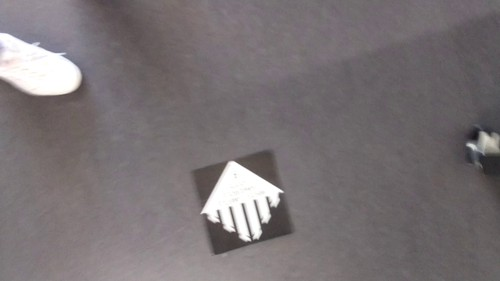misgoods: (194, 158, 290, 245)
